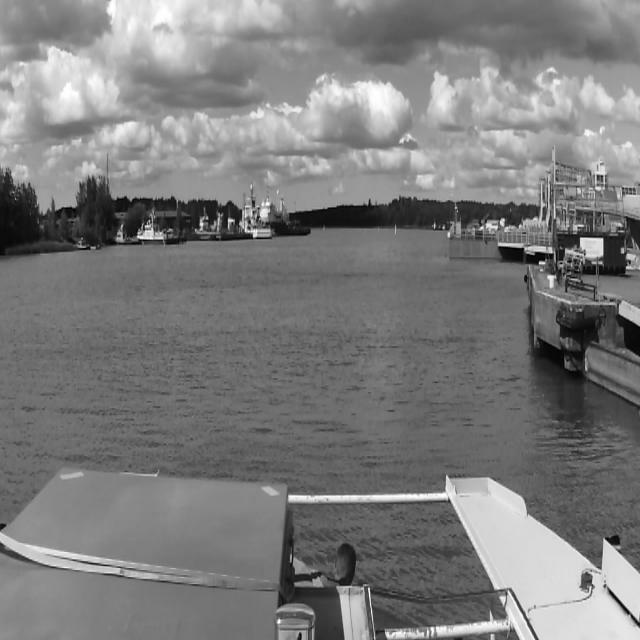buoy: (393, 224, 398, 235), (322, 225, 326, 232)
ship: (239, 181, 273, 240), (135, 205, 167, 248)
